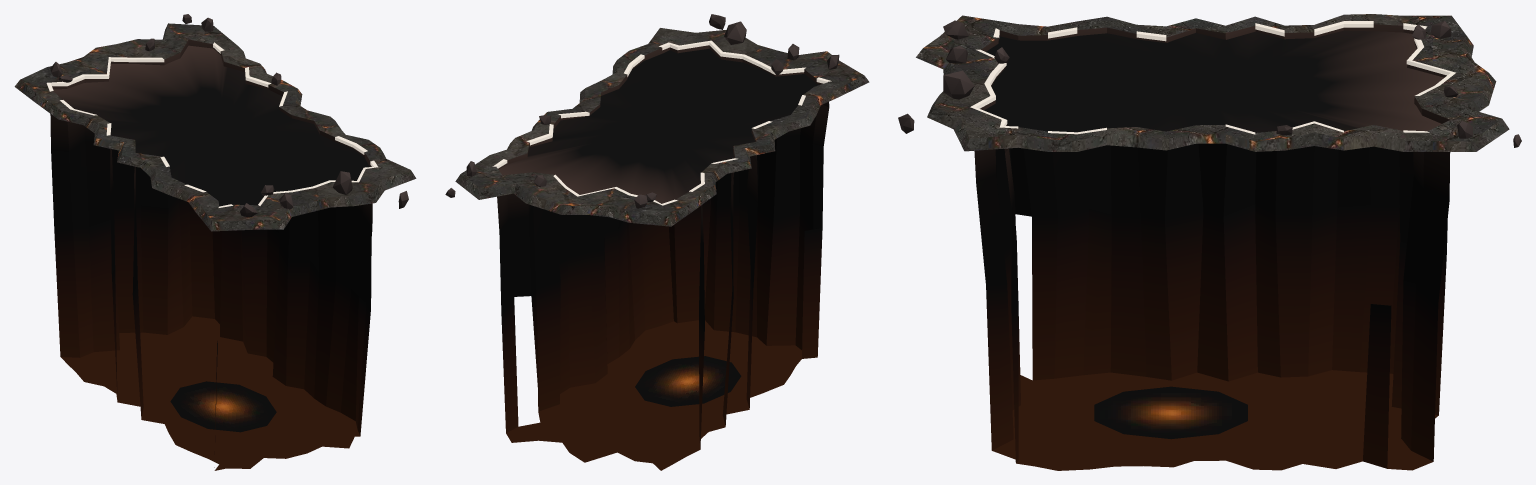
File: gap_lane.glb
3 views of the same model, side by side, from view 1: azimuth 30°, elevation 25°; view 2: azimuth 150°, elevation 25°; view 3: azimuth 270°, elevation 25° (orthographic). The views are drawn at different scales.
Parts seen in each view (by area): view 1: pit_interior, pit_void, pit_rim, pit_glow, pit_cue, pit_rubble; view 2: pit_interior, pit_void, pit_rim, pit_glow, pit_cue, pit_rubble; view 3: pit_interior, pit_void, pit_rim, pit_glow, pit_rubble, pit_cue.
Part boxes in pixels (x1,y1,x2,y2): pit_interior: (50,114,372,470); pit_void: (53,45,369,206); pit_rim: (14,23,416,231); pit_glow: (170,381,276,432); pit_cue: (46,42,377,207); pit_rubble: (50,14,408,217); pit_interior: (497,104,829,470); pit_void: (498,48,819,203); pit_rim: (455,28,869,226); pit_glow: (635,356,741,406); pit_cue: (492,40,831,205); pit_rubble: (445,14,839,208); pit_interior: (974,143,1449,470); pit_void: (984,30,1443,132); pit_rim: (916,14,1509,152); pit_glow: (1094,386,1247,439); pit_rubble: (898,20,1521,147); pit_cue: (970,21,1455,134).
Size of the model in its own units: 2.06 by 2.74 by 4.21.
6 materials, 2 textured.
